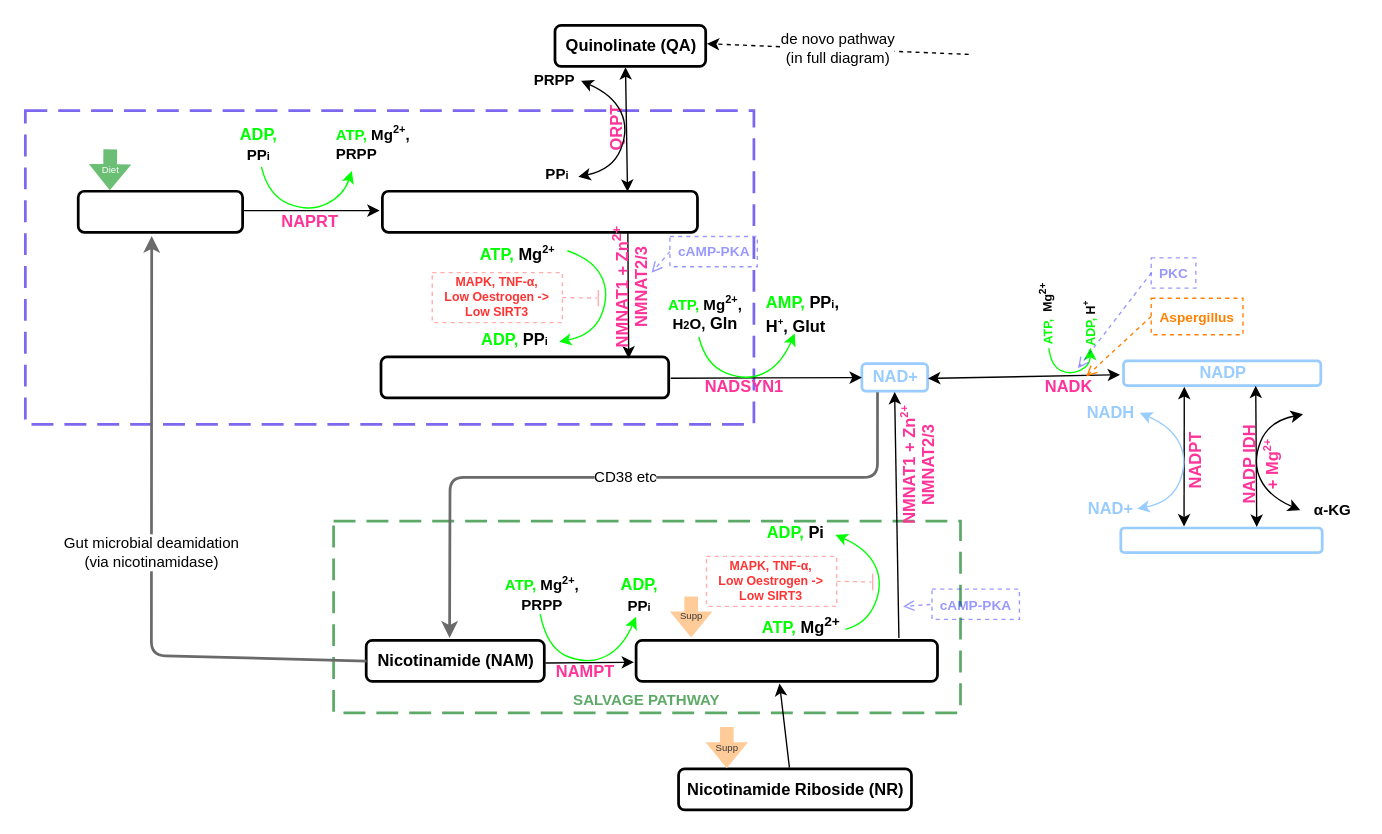
Some shapes in this 1382 by 834 pixel diagram are drawn without their labels. Each missing label, with the box of its shape:
NADPH: (1119, 526, 1323, 553)
Nicotinamide Mononucleotide (NMN): (634, 638, 938, 682)
Nicotinic Acid (NA): (76, 189, 243, 233)
Nicotinic Acid Dinucleotide (NAAD): (379, 355, 669, 399)
Nicotinic Acid Mononucleotide (NAMN): (380, 189, 698, 233)
PREISS-HANDLER PATHWAY: (23, 109, 755, 425)
